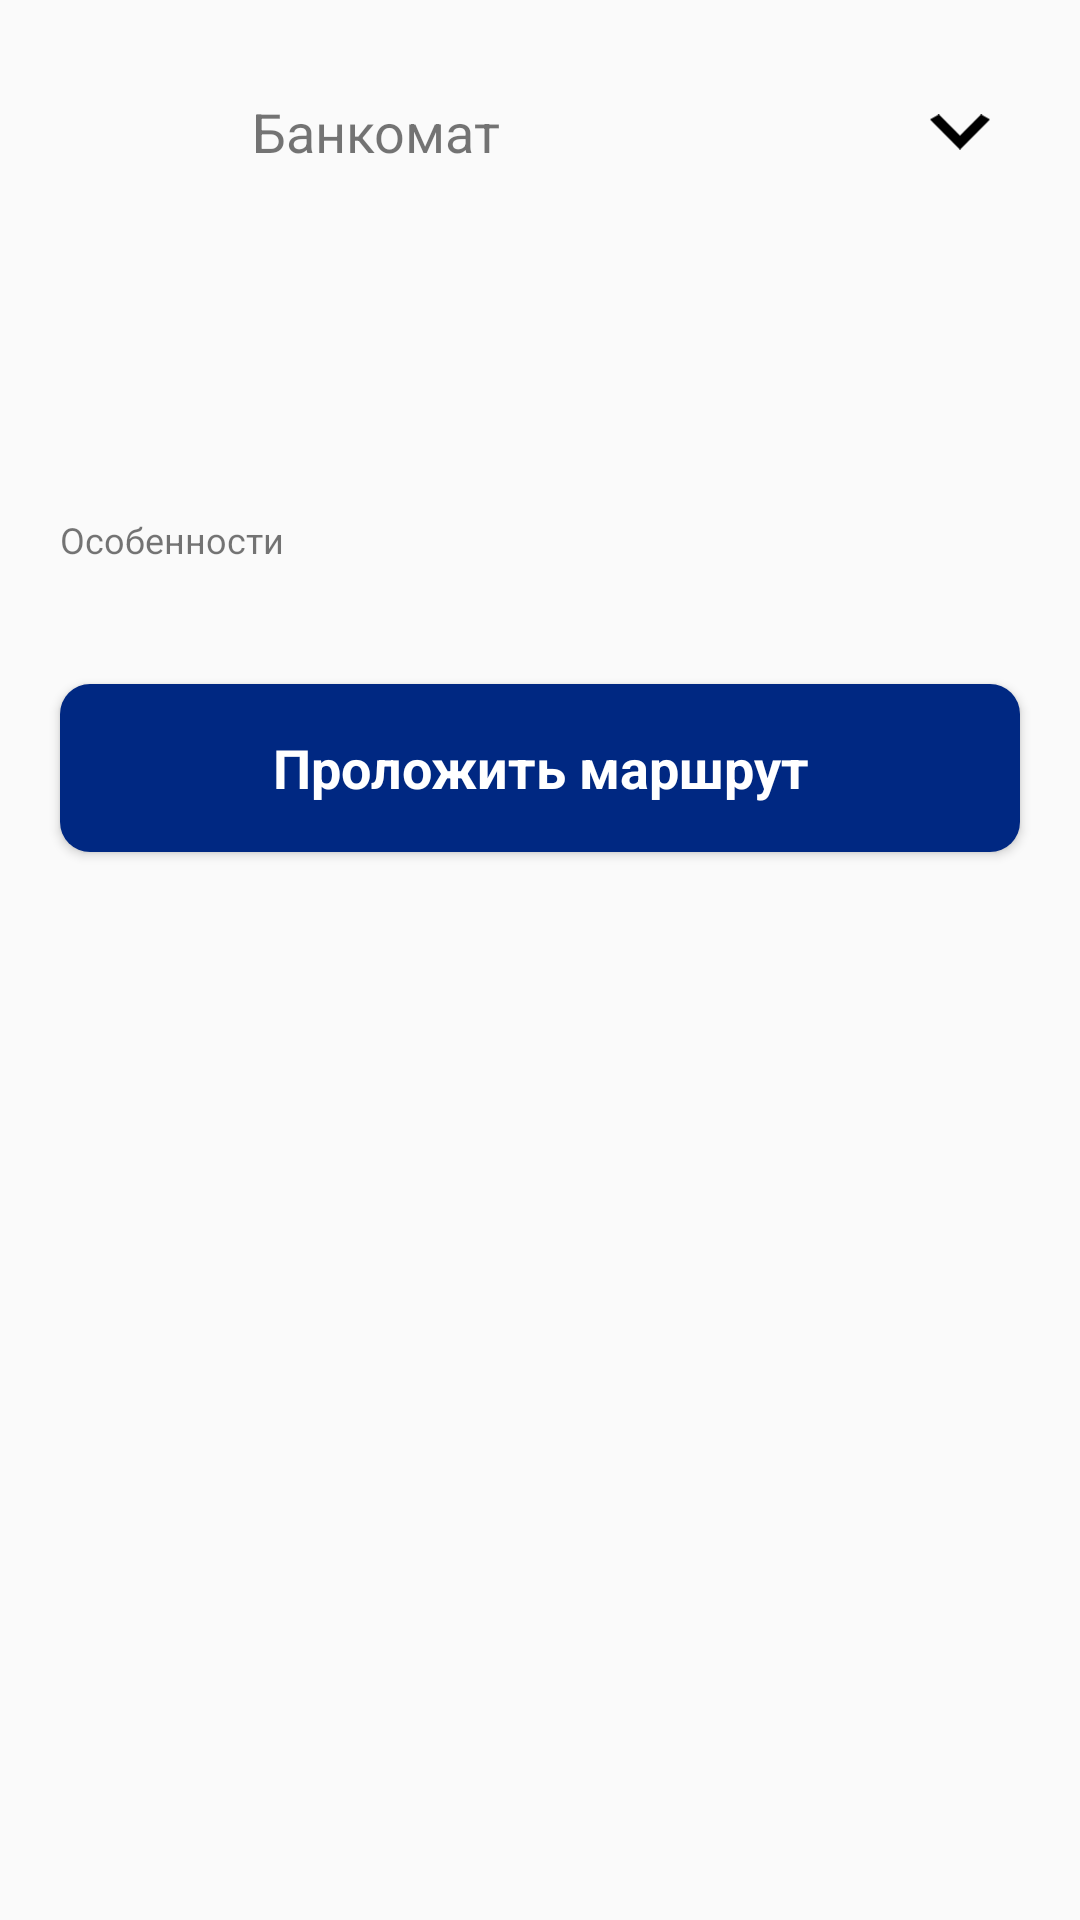

Icon bounding boxes for this 1080x1920 phone screenshot, format (x1, y1, x2, y2):
arrow down: (930, 114, 990, 150)
